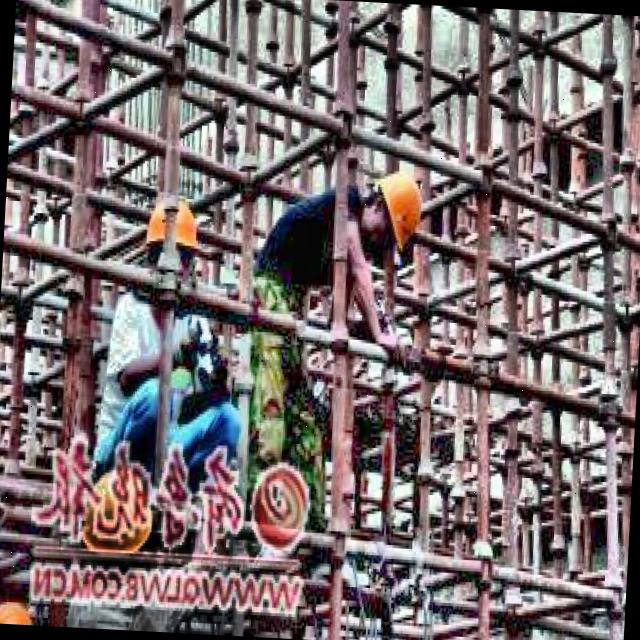helmet: (360, 162, 431, 256), (140, 202, 202, 290)
